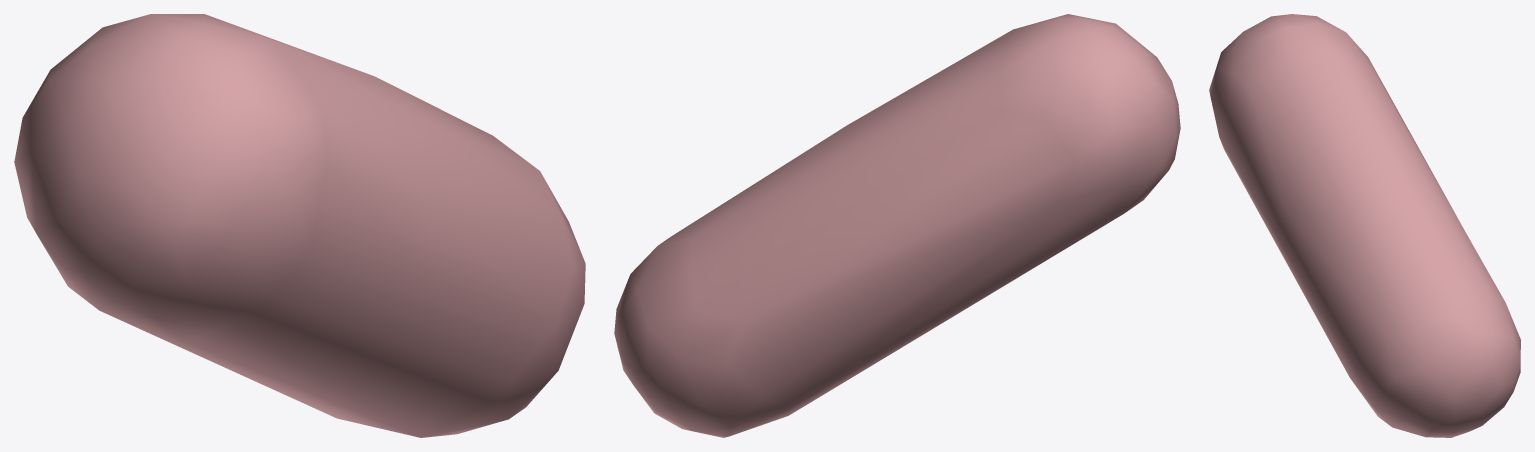
Rendered from fma14669_fj3123.glb.
3 views of the same model, side by side, from view 1: azimuth 30°, elevation 25°; view 2: azimuth 150°, elevation 25°; view 3: azimuth 270°, elevation 25° (orthographic). The views are drawn at different scales.
Visible parts, largest first — view 1: FMA14669_FJ3123; view 2: FMA14669_FJ3123; view 3: FMA14669_FJ3123.
Part boxes in pixels (x1,y1,x2,y2): FMA14669_FJ3123: [14, 14, 585, 437]; FMA14669_FJ3123: [614, 14, 1180, 437]; FMA14669_FJ3123: [1209, 14, 1520, 437].
Size of the model in its own units: 0.00952 by 0.00816 by 0.00746.
